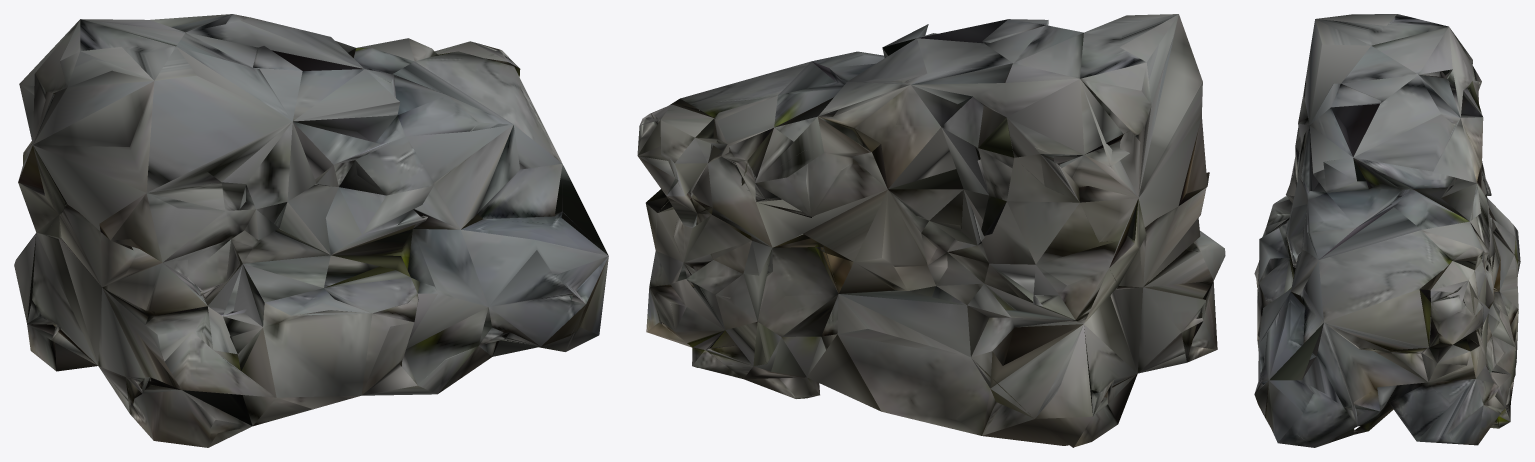
File: rock-temperate-outcrop.glb
The picture shows the model from 3 angles, left to right: view 1: azimuth 30°, elevation 25°; view 2: azimuth 150°, elevation 25°; view 3: azimuth 270°, elevation 25°; orthographic projection. The views are drawn at different scales.
Parts seen in each view (by area): view 1: tripo_node_523a9ab4-f3b6-4607-ab7b-db2216307420; view 2: tripo_node_523a9ab4-f3b6-4607-ab7b-db2216307420; view 3: tripo_node_523a9ab4-f3b6-4607-ab7b-db2216307420.
Boxes of the visible parts, x1=… form: tripo_node_523a9ab4-f3b6-4607-ab7b-db2216307420: x1=14, y1=14, x2=608, y2=447; tripo_node_523a9ab4-f3b6-4607-ab7b-db2216307420: x1=637, y1=14, x2=1225, y2=447; tripo_node_523a9ab4-f3b6-4607-ab7b-db2216307420: x1=1254, y1=14, x2=1520, y2=447.
Bounding box in the file's own units: 2.29 × 1.6 × 1.41.
1 material, 1 textured.
